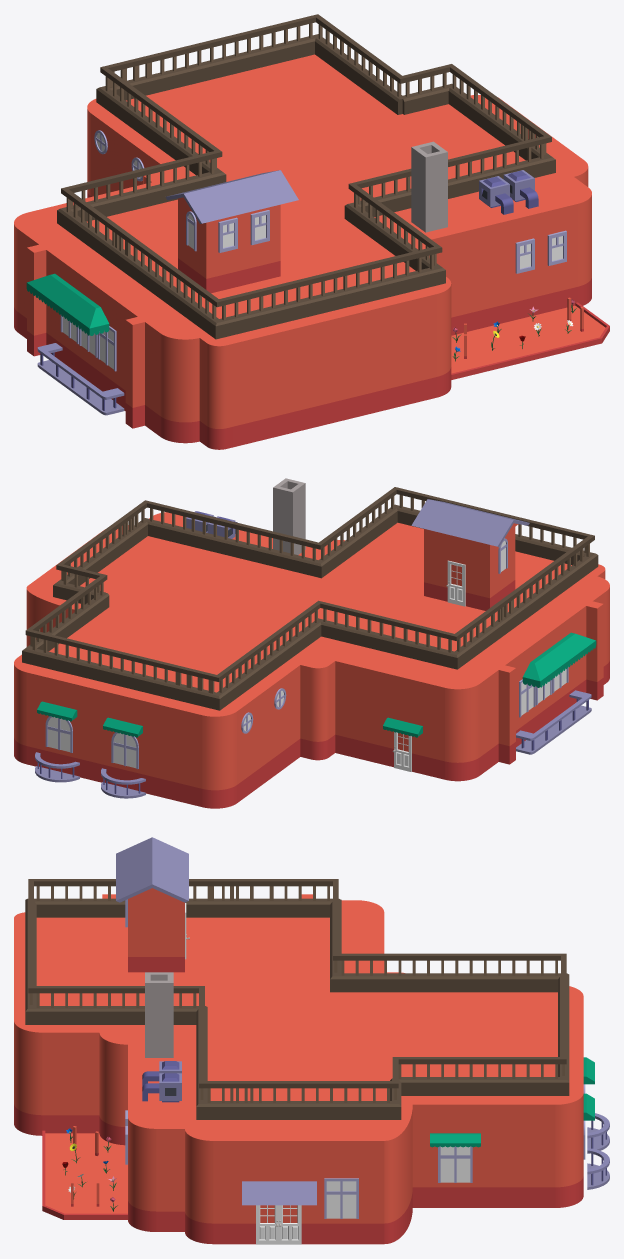
File: room.glb
The picture shows the model from 3 angles, top to bottom: view 1: azimuth 30°, elevation 25°; view 2: azimuth 150°, elevation 25°; view 3: azimuth 270°, elevation 25°; orthographic projection. The views are drawn at different scales.
Visible parts, largest first — view 1: block (×11), Wood_Railing_Straight (×20), Wood_Railing_Corner (×9), block_corner_round_large (×4), block_corner_round_small, block_quarter (×2), roof, Props_Fireplace_Chimney (×3), window_detail_double (×2), balcony_basic, detail_ventSmall (×2), awning (×2) (+2 smaller); view 2: block (×8), Wood_Railing_Straight (×19), Wood_Railing_Corner (×9), block_corner_round_large (×5), block_corner_round_small, block_quarter (×2), roof, awning (×5), Props_Fireplace_Chimney (×2), door_rounded_wide (×2), balcony_basic, balcony_round (×2) (+3 smaller); view 3: block (×9), block_corner_round_large (×6), Wood_Railing_Corner (×9), Wood_Railing_Straight (×10), roof, door_wide (×2), Props_Fireplace_Chimney (×3), roof_half, Exterior_Door (×2), balcony_round (×2), detail_ventSmall, awning.
Part boxes in pixels (bbox=[...]): block (×11): bbox=[17, 56, 587, 445]; Wood_Railing_Straight (×20): bbox=[87, 18, 538, 331]; Wood_Railing_Corner (×9): bbox=[57, 14, 555, 339]; block_corner_round_large (×4): bbox=[14, 187, 591, 443]; block_corner_round_small: bbox=[199, 335, 238, 449]; block_quarter (×2): bbox=[27, 244, 144, 428]; roof: bbox=[165, 170, 298, 223]; Props_Fireplace_Chimney (×3): bbox=[411, 141, 447, 232]; window_detail_double (×2): bbox=[218, 210, 566, 273]; balcony_basic: bbox=[37, 343, 124, 415]; detail_ventSmall (×2): bbox=[479, 170, 538, 214]; awning (×2): bbox=[38, 276, 97, 327]; block (×8): bbox=[17, 517, 606, 806]; Wood_Railing_Straight (×19): bbox=[37, 506, 570, 708]; Wood_Railing_Corner (×9): bbox=[22, 487, 598, 710]; block_corner_round_large (×5): bbox=[14, 576, 609, 808]; block_corner_round_small: bbox=[300, 655, 335, 760]; block_quarter (×2): bbox=[498, 601, 603, 764]; roof: bbox=[411, 499, 529, 546]; awning (×5): bbox=[37, 634, 585, 737]; Props_Fireplace_Chimney (×2): bbox=[273, 478, 305, 535]; door_rounded_wide (×2): bbox=[45, 716, 138, 769]; balcony_basic: bbox=[516, 690, 591, 754]; balcony_round (×2): bbox=[35, 752, 145, 798]; block (×9): bbox=[14, 897, 583, 1244]; block_corner_round_large (×6): bbox=[14, 1020, 583, 1244]; Wood_Railing_Corner (×9): bbox=[25, 879, 569, 1119]; Wood_Railing_Straight (×10): bbox=[88, 879, 506, 1119]; roof: bbox=[116, 837, 188, 902]; door_wide (×2): bbox=[324, 1146, 472, 1218]; Props_Fireplace_Chimney (×3): bbox=[145, 972, 173, 1057]; roof_half: bbox=[242, 1181, 316, 1205]; Exterior_Door (×2): bbox=[256, 1205, 301, 1244]; balcony_round (×2): bbox=[587, 1113, 609, 1189]; detail_ventSmall: bbox=[142, 1073, 181, 1102]; awning: bbox=[430, 1133, 480, 1147].
Bounding box in the file's own units: 21.84 × 7.64 × 20.93.
